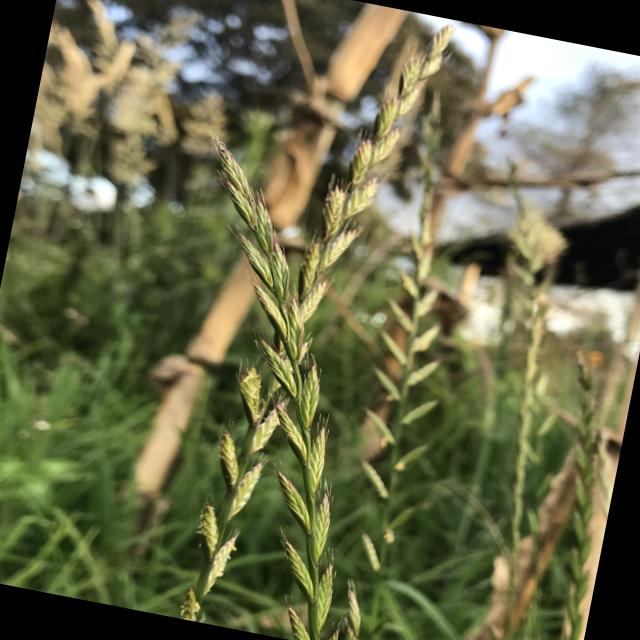Lolium: (113, 0, 477, 640), (129, 142, 416, 640), (434, 155, 603, 577), (329, 226, 470, 640), (554, 233, 640, 638)
